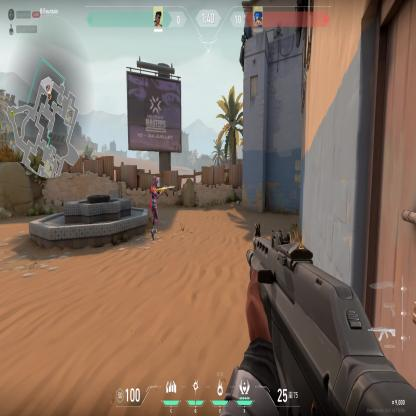enemy: (149, 174, 169, 241)
